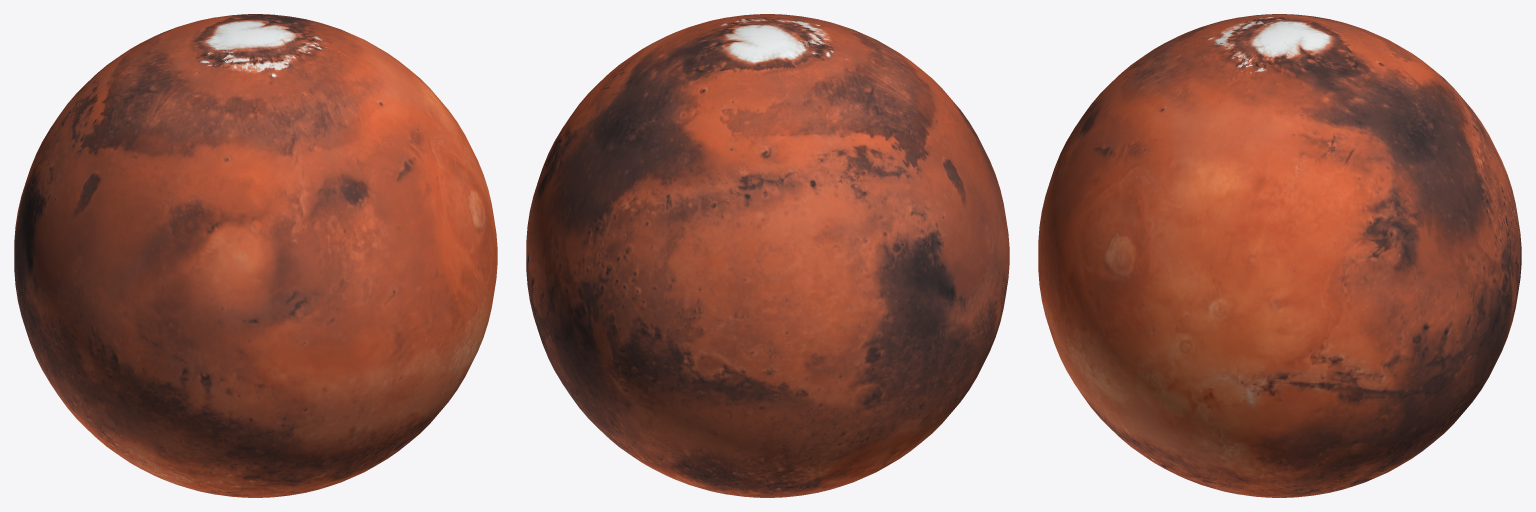
File: mars.glb
The picture shows the model from 3 angles, left to right: view 1: azimuth 30°, elevation 25°; view 2: azimuth 150°, elevation 25°; view 3: azimuth 270°, elevation 25°; orthographic projection.
Visible parts, largest first — view 1: Sphere; view 2: Sphere; view 3: Sphere.
Part boxes in pixels (box(x1,y1,x2,y2)): Sphere: box(14, 14, 497, 497); Sphere: box(526, 14, 1009, 497); Sphere: box(1038, 14, 1521, 497).
Size of the model in its own units: 2 by 2 by 2.
Materials: 1 (1 with a texture image).
